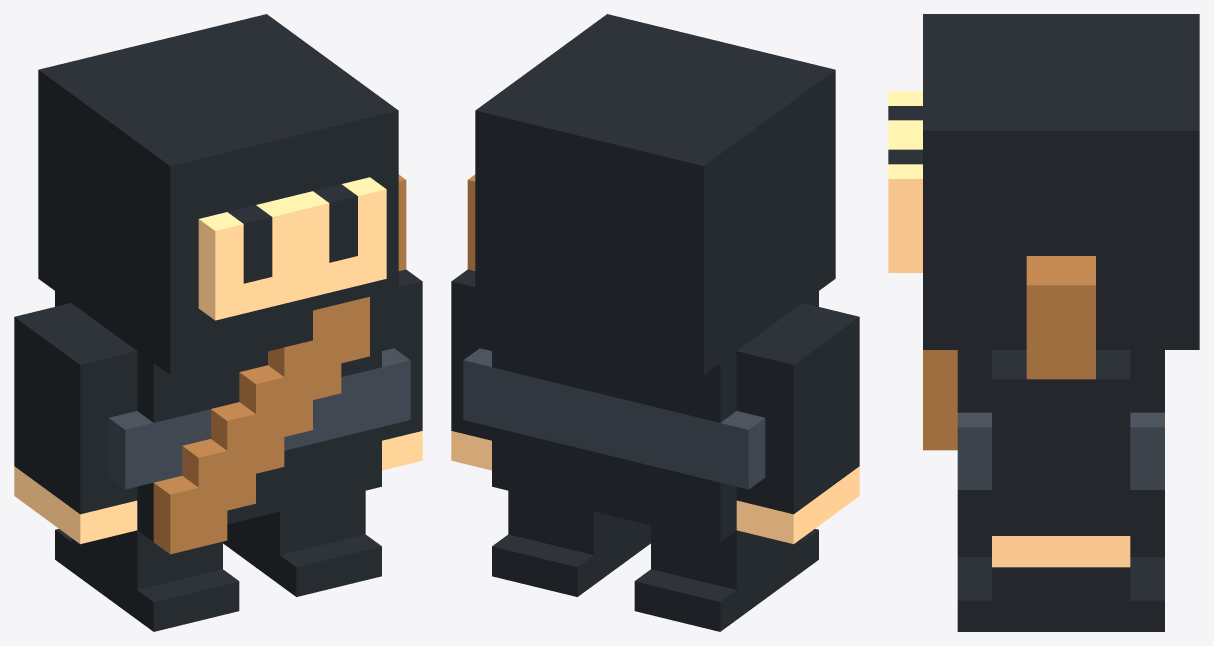
File: voxel-ninja.glb
3 views of the same model, side by side, from view 1: azimuth 30°, elevation 25°; view 2: azimuth 150°, elevation 25°; view 3: azimuth 270°, elevation 25° (orthographic). The views are drawn at different scales.
Visible parts, largest first — view 1: ninja; view 2: ninja; view 3: ninja.
Boxes of the visible parts, left/top/right/bottom form: ninja: left=14, top=14, right=422, bottom=631; ninja: left=451, top=14, right=859, bottom=631; ninja: left=888, top=14, right=1199, bottom=631.
Bounding box in the file's own units: 1.8 × 2.4 × 1.35.
